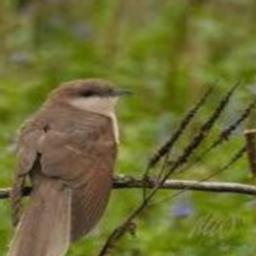Cuckoo: (5, 77, 134, 256)
